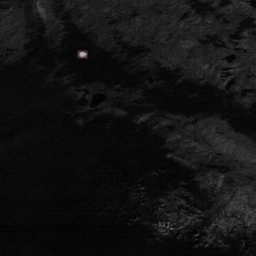Target: (78, 50, 88, 57)
